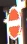No entry: (5, 6, 22, 39)
